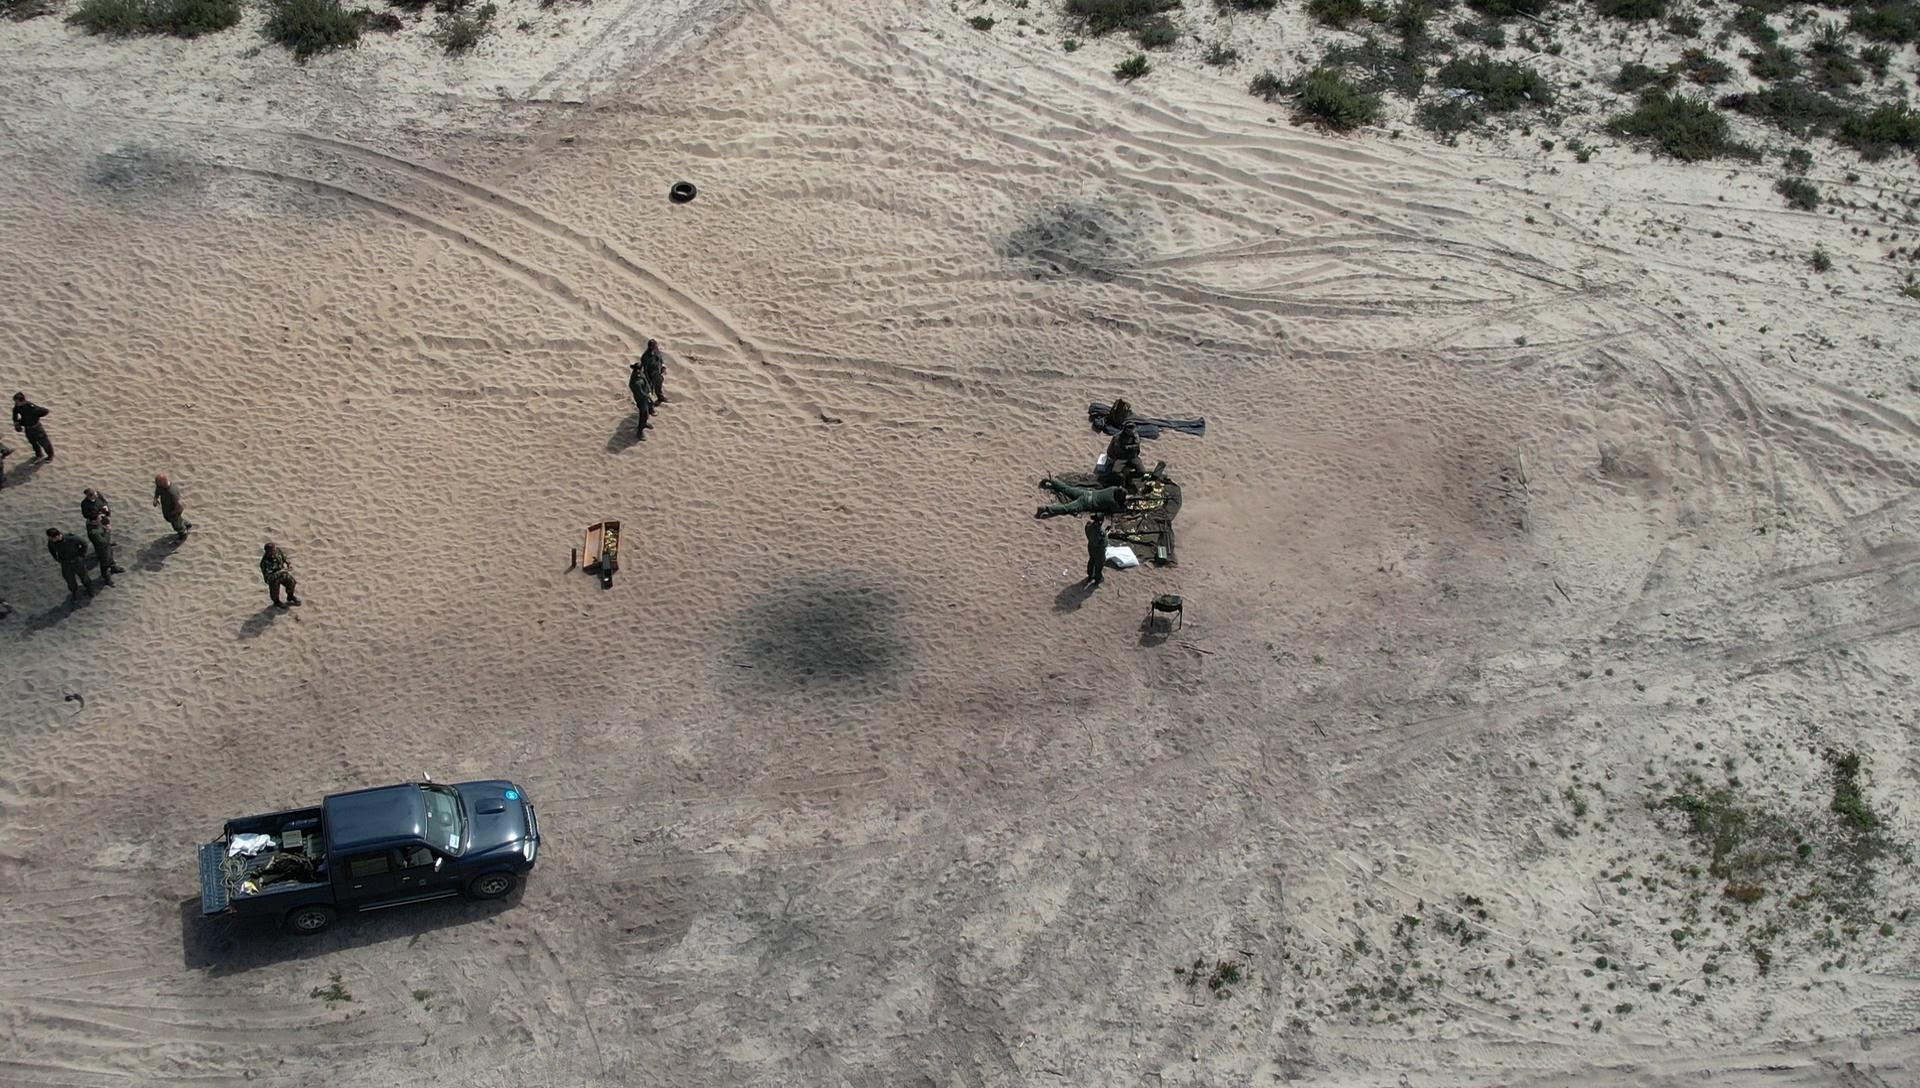Soldier: (1040, 466, 1178, 529), (0, 545, 62, 646), (51, 517, 113, 616), (0, 392, 69, 475), (138, 473, 198, 557), (71, 487, 123, 575), (252, 537, 302, 624), (626, 346, 669, 433), (1083, 509, 1121, 597), (1098, 409, 1158, 466), (630, 348, 669, 413)
